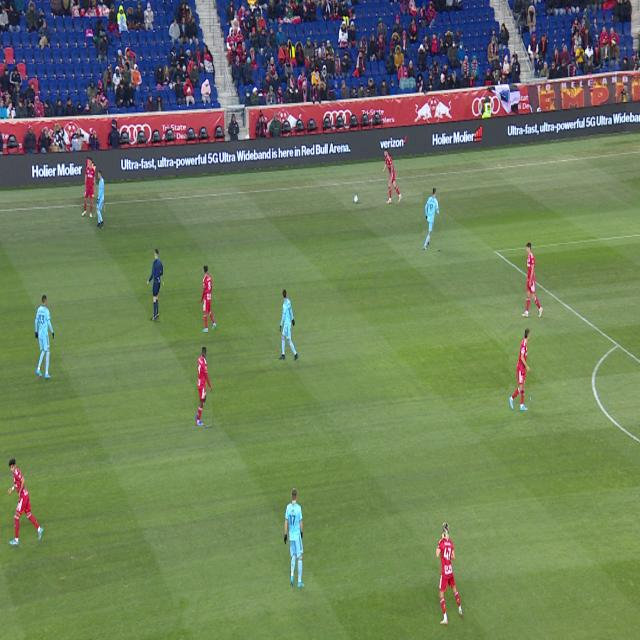football: (354, 195, 358, 203)
player: (8, 458, 43, 545), (436, 522, 463, 625), (284, 488, 305, 588), (510, 329, 530, 411), (521, 243, 543, 317), (35, 295, 54, 379), (279, 289, 298, 360), (196, 347, 212, 426), (423, 188, 440, 250), (383, 148, 402, 203), (201, 266, 216, 332), (82, 157, 96, 217), (97, 171, 104, 229)
referee: (148, 249, 163, 321)
